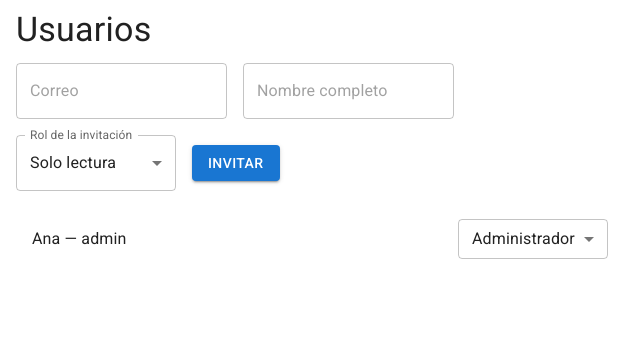
shows a friendly message when the email already exists
This screenshot has width=641, height=340.
Expected: the text "Ana — admin" is shown, [32, 229, 126, 248]
Type "dup@b.com" into the field with placeholder "Correo" at (122, 91), box [16, 63, 227, 119]
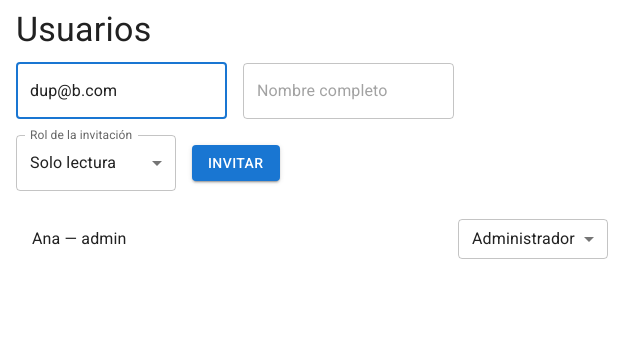
Type "Dup" into the field with placeholder "Nombre completo" at (348, 91), box [243, 63, 454, 119]
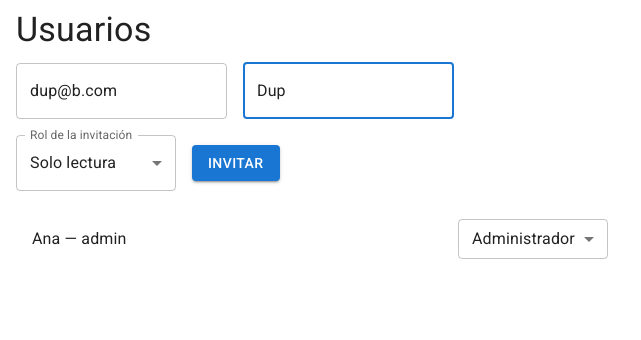
Click the button "Invitar" at (236, 163), box [192, 145, 280, 181]
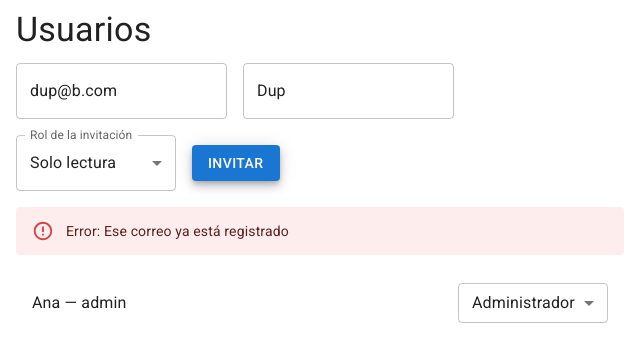
Expected: the message shows "ya está registrado", [66, 223, 289, 239]
